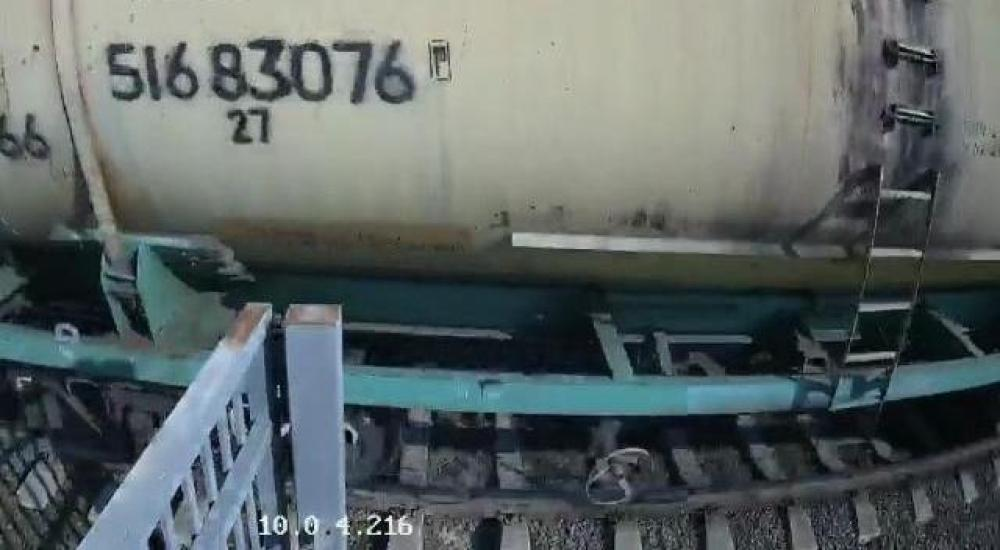Wagon-number: (100, 32, 426, 109)
